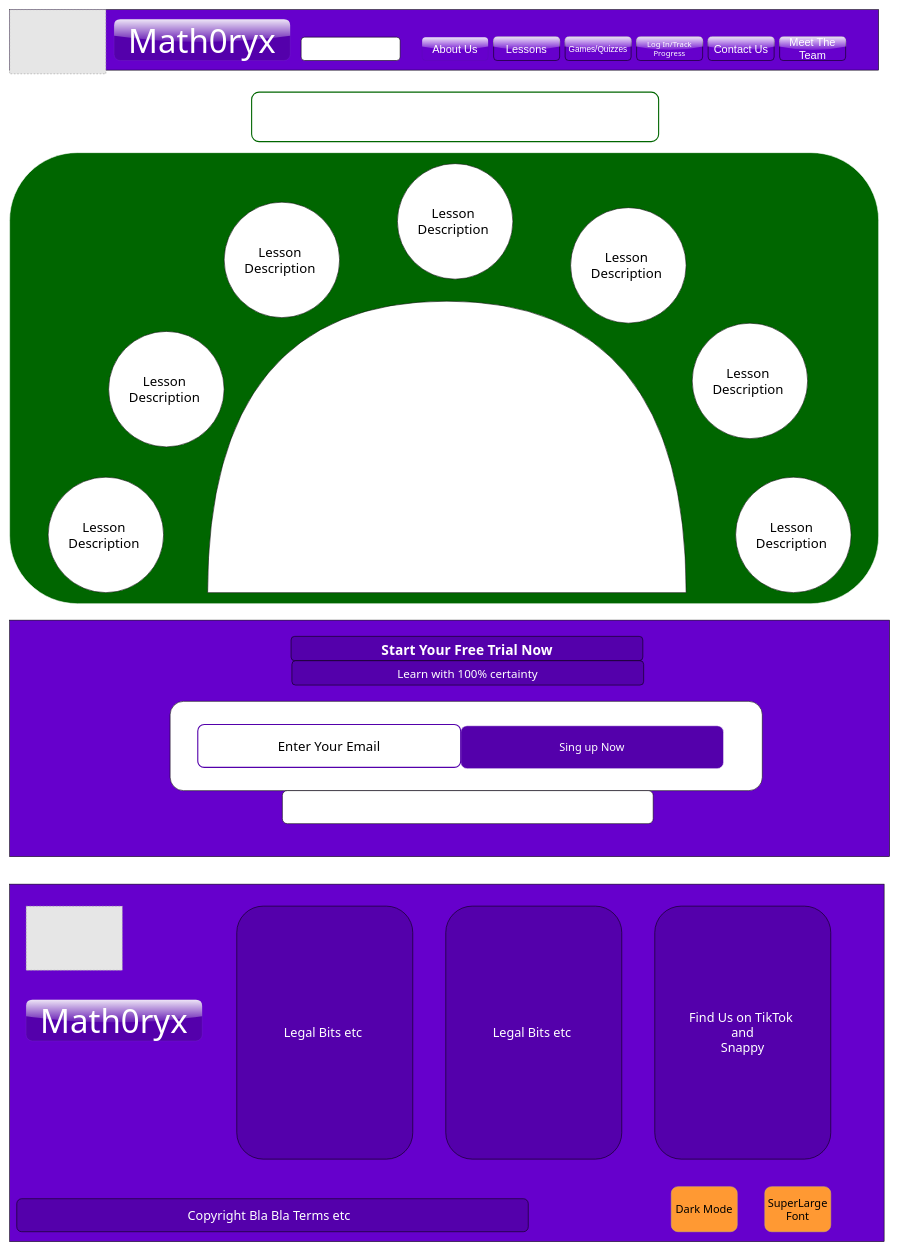
This 899x1251 diagram has some shape labels left out. Grey dashed boxes stand in for pictures. The centre of each missing label's shape, as x and y in pixels:
"Here Goes Some Kick ass Inspiring Image" goes at (446,447).
"Math0ryx will never share your details with thrird parties. Terms and Conditions" goes at (467,807).
"Search Bar" goes at (350,49).
"Start Your Math Lessons Now ( or similar calling to action shout out)" goes at (455,116).
